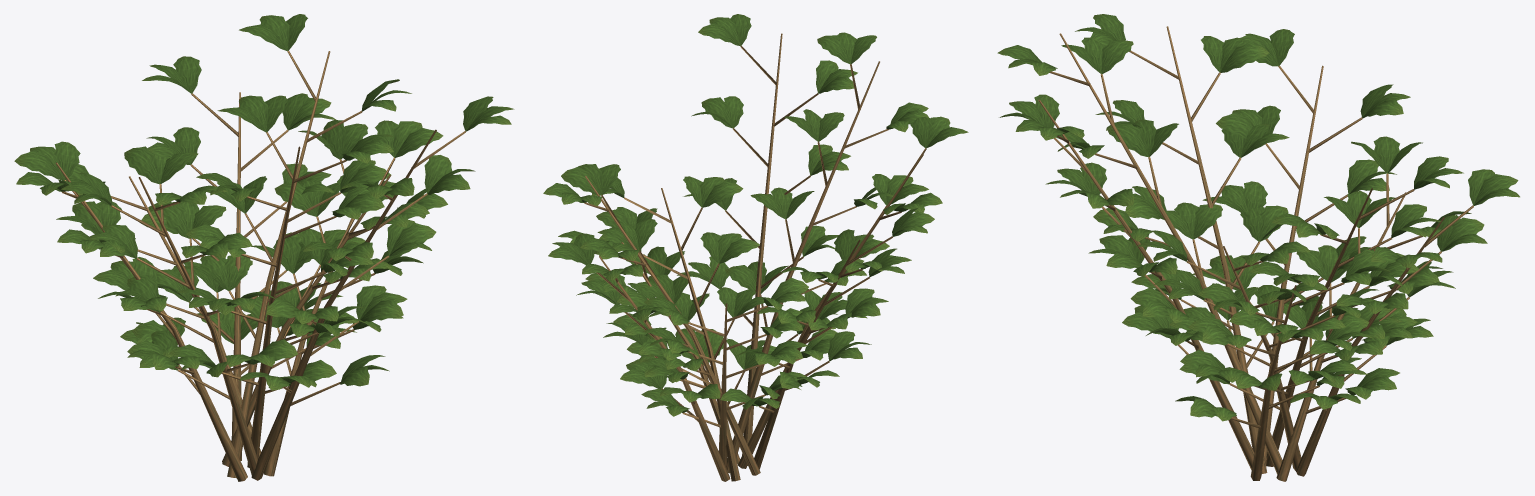
Rendered from HazelSeedling_C.fbx.
3 renders of one model, left to right at view 1: azimuth 30°, elevation 25°; view 2: azimuth 150°, elevation 25°; view 3: azimuth 270°, elevation 25°, orthographic. The views are drawn at different scales.
Visible parts, largest first — view 1: HazelSeedling_C_LOD0; view 2: HazelSeedling_C_LOD0; view 3: HazelSeedling_C_LOD0.
Part boxes in pixels (x1,y1,x2,y2): HazelSeedling_C_LOD0: (14,14,514,481); HazelSeedling_C_LOD0: (543,14,968,481); HazelSeedling_C_LOD0: (997,14,1519,481).
Size of what is drawn, in the model's own units: 49.53 by 48.66 by 55.38.
1 material, 1 textured.
